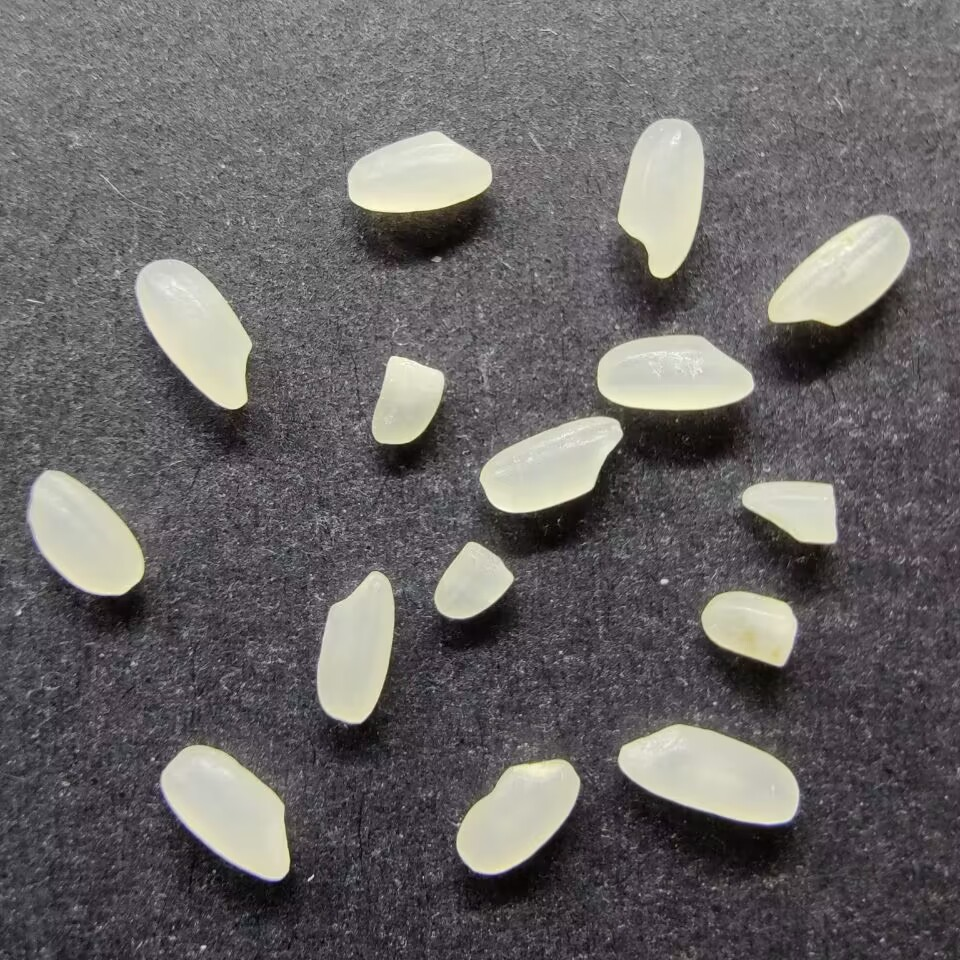broken: (699, 590, 798, 670), (368, 354, 445, 445), (431, 540, 515, 622), (740, 480, 841, 548)
rice: (156, 742, 292, 884), (615, 722, 799, 826), (134, 256, 255, 412), (766, 212, 912, 326), (25, 468, 148, 597), (453, 756, 581, 876), (478, 413, 623, 515), (617, 115, 705, 280), (313, 569, 395, 724), (345, 129, 493, 214), (596, 334, 756, 411)
